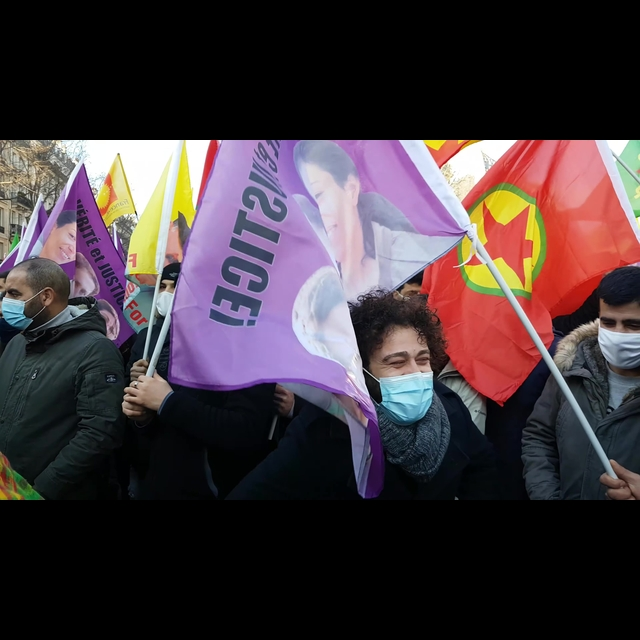PKK: (443, 177, 555, 309)
